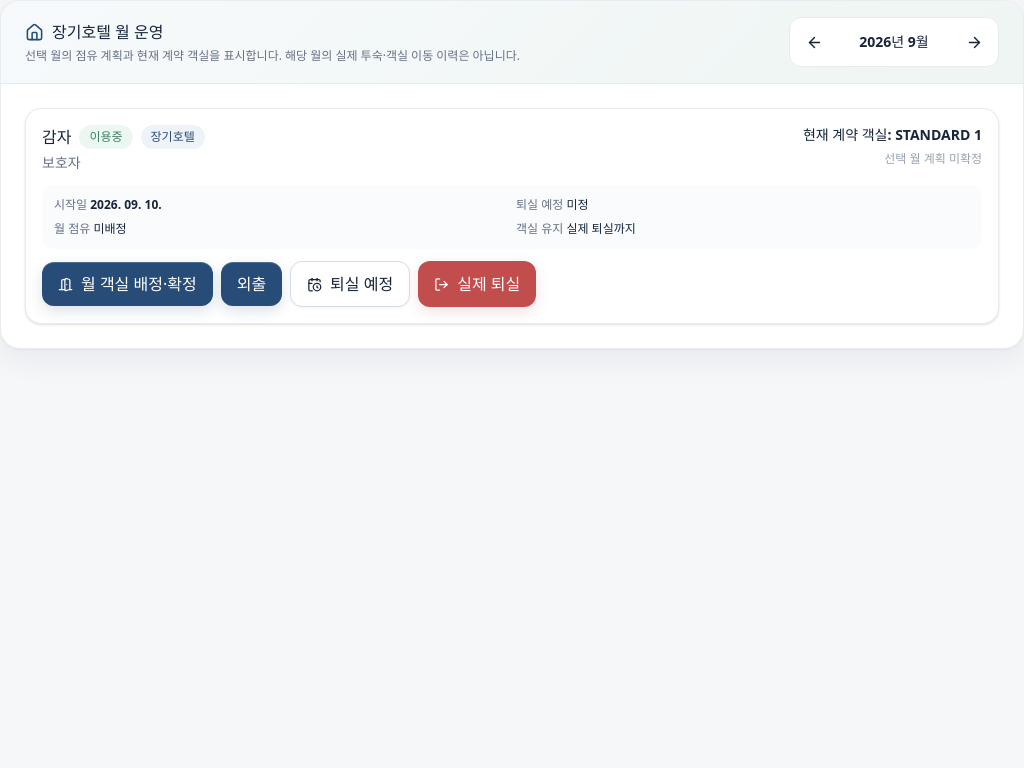
Scenario: Long Stay room identity UX › exposes monthly confirmation despite an occupied current room and explains live allocation effects
Click the button "월 객실 배정·확정" at x=127, y=284, box left=42, top=262, right=213, bottom=306
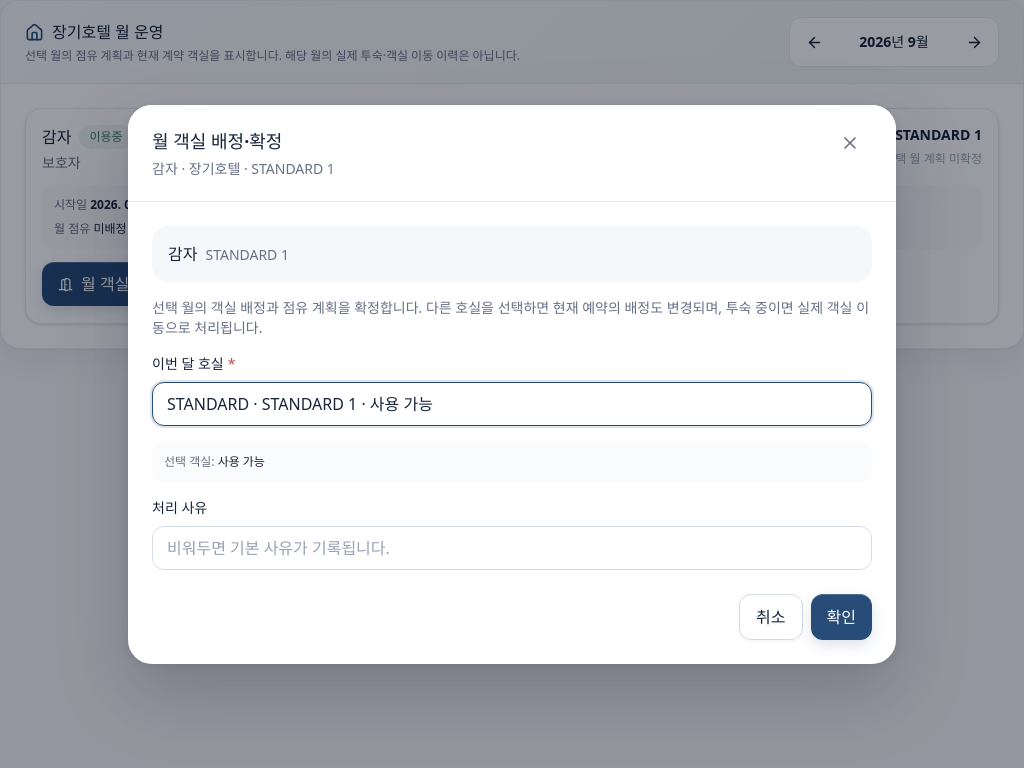
Now the text "다른 호실을 선택하면 현재 예약의 배정도 변경" is shown, box left=152, top=298, right=869, bottom=336
